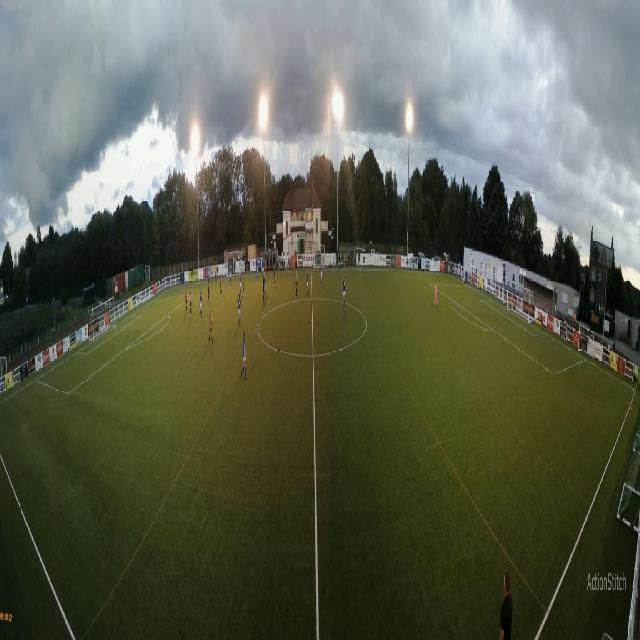player: (242, 330, 247, 379), (434, 274, 438, 314), (273, 258, 277, 292), (343, 269, 346, 314), (306, 267, 310, 297), (264, 272, 268, 302), (294, 266, 298, 294), (209, 308, 212, 345), (261, 274, 265, 300), (239, 293, 242, 327), (320, 258, 323, 289), (200, 290, 203, 321), (239, 270, 242, 297), (185, 286, 188, 313), (220, 272, 223, 297), (114, 306, 117, 330), (229, 267, 232, 286), (243, 269, 245, 297), (208, 276, 210, 303), (190, 289, 192, 315), (265, 255, 267, 277), (257, 260, 259, 278), (215, 265, 217, 282)
